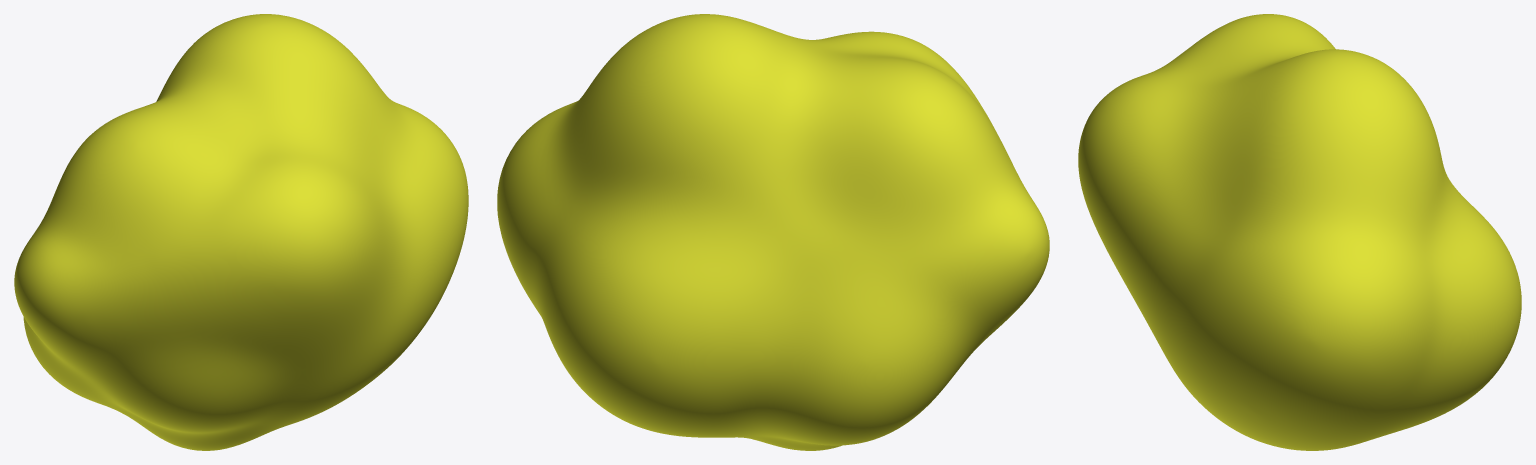
Rendered from explainer-poc-blob.glb.
3 renders of one model, left to right at view 1: azimuth 30°, elevation 25°; view 2: azimuth 150°, elevation 25°; view 3: azimuth 270°, elevation 25°, orthographic. The views are drawn at different scales.
Visible parts, largest first — view 1: Blob; view 2: Blob; view 3: Blob.
Boxes of the visible parts, bbox=[...] form: Blob: bbox=[14, 14, 468, 450]; Blob: bbox=[497, 14, 1049, 450]; Blob: bbox=[1078, 14, 1521, 450].
Size of the model in its own units: 0.0217 by 0.0173 by 0.0176.
